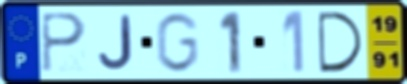1: (278, 8, 306, 77), (217, 10, 245, 76)
D: (315, 10, 367, 75)
G: (153, 11, 202, 75)
J: (96, 14, 135, 72)
P: (39, 11, 89, 75)
